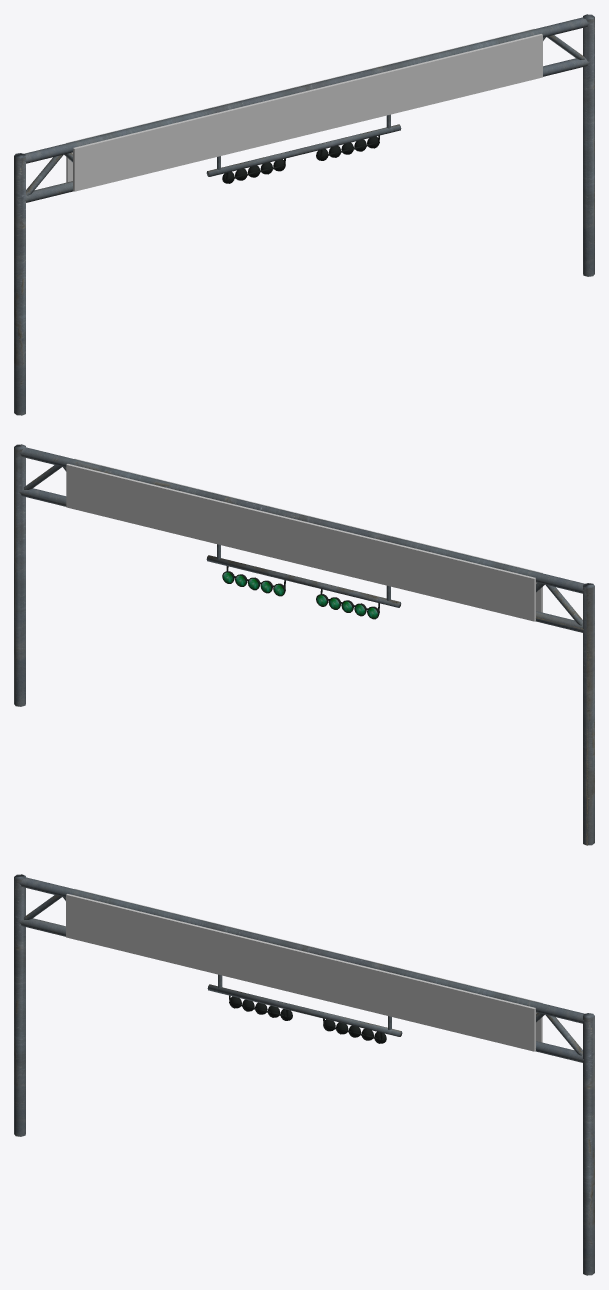
The model's file is Post-Start-04-A.fbx.
3 renders of one model, top to bottom at view 1: azimuth 30°, elevation 25°; view 2: azimuth 150°, elevation 25°; view 3: azimuth 330°, elevation 25°, orthographic.
Parts seen in each view (by area): view 1: Post-Start-04; view 2: Post-Start-04, Green; view 3: Post-Start-04.
Boxes of the visible parts, bbox=[...] form: Post-Start-04: bbox=[14, 14, 594, 415]; Post-Start-04: bbox=[14, 444, 594, 845]; Green: bbox=[223, 572, 377, 618]; Post-Start-04: bbox=[14, 874, 594, 1275].
Bounding box in the file's own units: 2653 × 1128 × 69.7.
